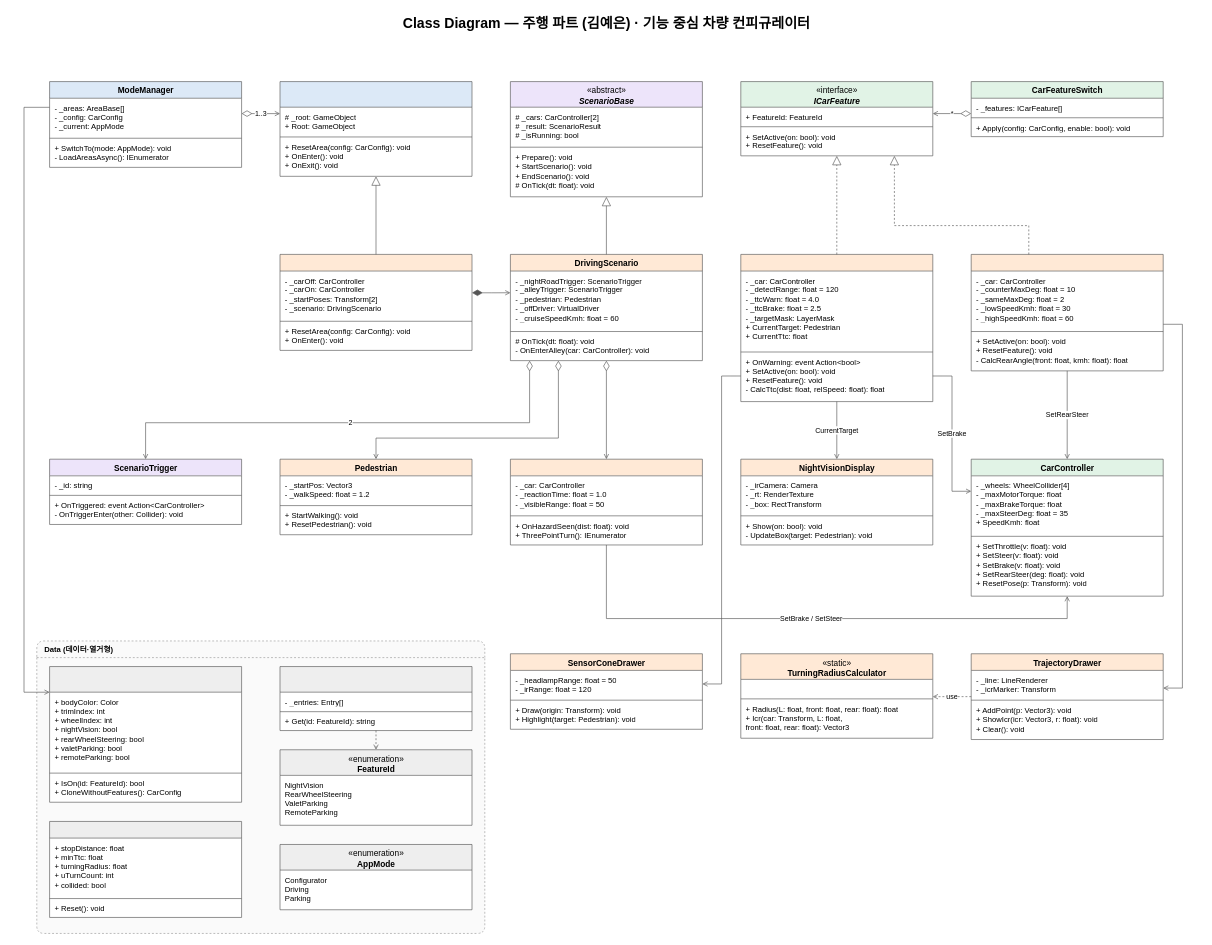
The diagram is 1212 pixels wide and 945 high, and some of its shapes have lost their labels. The box of each missing label's shape, as (x1, y1, x2, y2) in pixels:
DrivingArea: (279, 254, 472, 350)
NightVisionSensor: (740, 254, 933, 402)
RearWheelSteering: (971, 254, 1163, 371)
ScenarioResult: (49, 821, 242, 917)
VirtualDriver: (510, 459, 702, 545)
«abstract» AreaBase: (279, 81, 472, 176)
«ScriptableObject» CarConfig: (49, 666, 242, 802)
«ScriptableObject» FeatureDescriptions: (279, 666, 472, 731)
